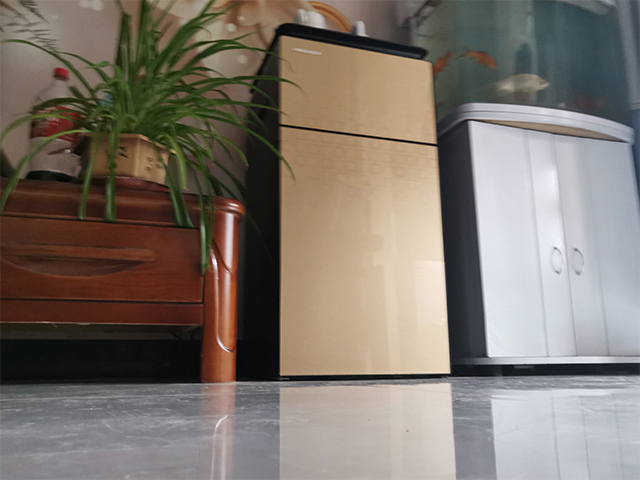cabinet: (433, 1, 640, 377), (1, 173, 247, 386)
